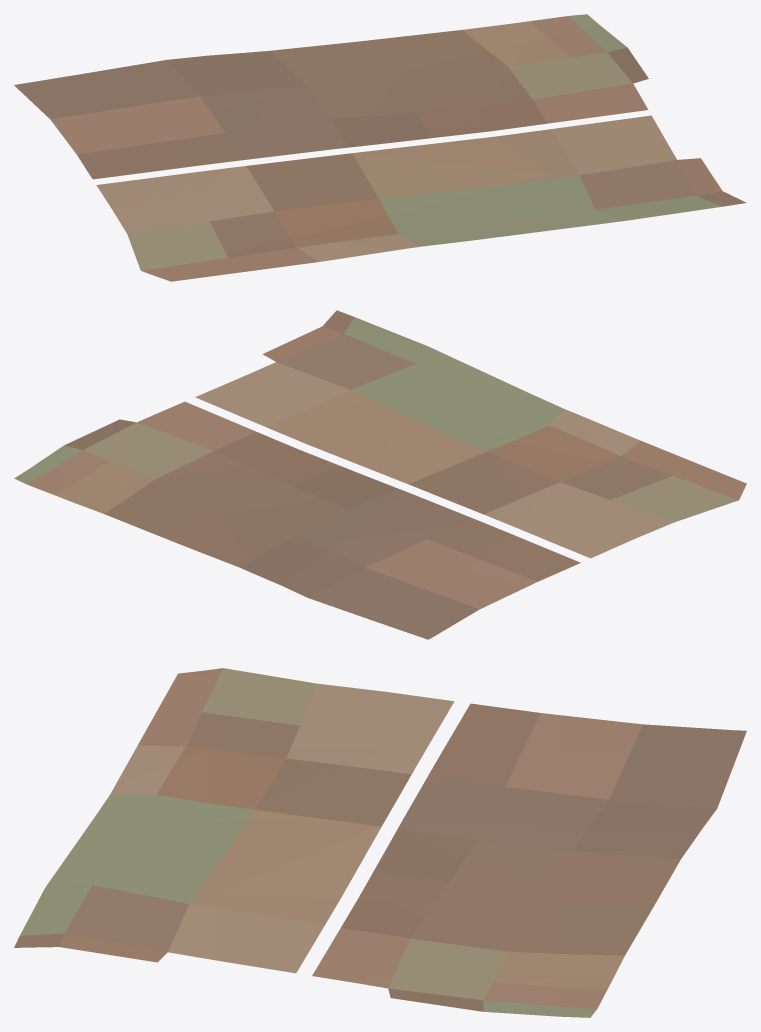
The model's file is farm_7_-1_soil.glb.
3 views of the same model, one above another, from view 1: azimuth 30°, elevation 25°; view 2: azimuth 150°, elevation 25°; view 3: azimuth 270°, elevation 25° (orthographic). The views are drawn at different scales.
Visible parts, largest first — view 1: geometry_0; view 2: geometry_0; view 3: geometry_0.
Part boxes in pixels (x1=…): geometry_0: x1=14, y1=14, x2=746, y2=281; geometry_0: x1=14, y1=310, x2=746, y2=639; geometry_0: x1=14, y1=668, x2=746, y2=1017.
Size of the model in its own units: 371 by 9.75 by 337.
